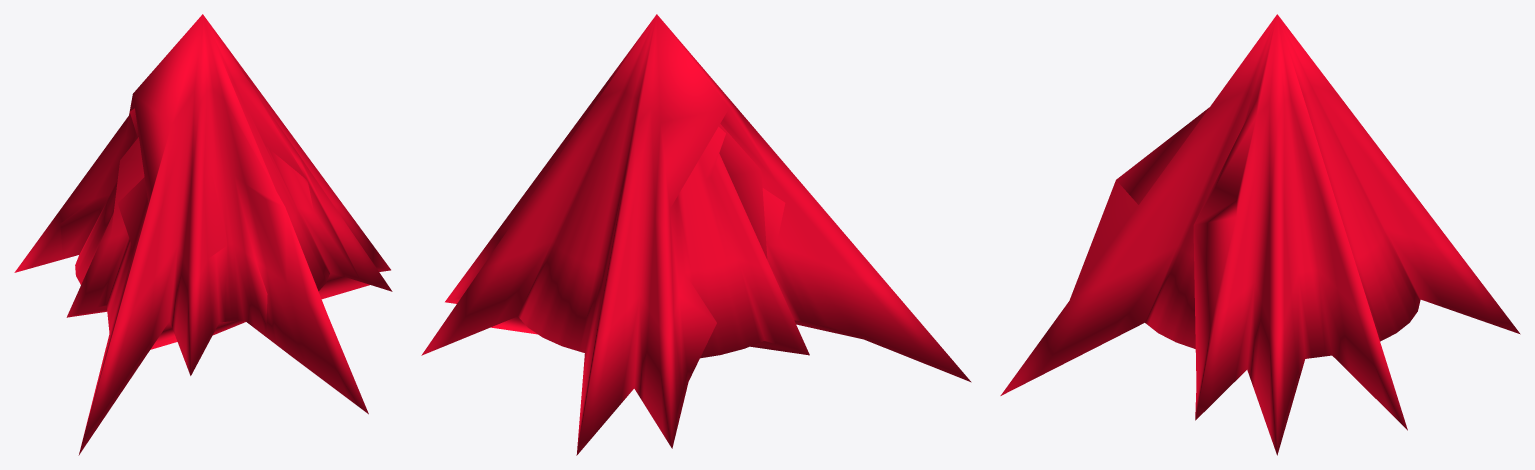
The model's file is AlienShrapnelFire.fbx.
The picture shows the model from 3 angles, left to right: view 1: azimuth 30°, elevation 25°; view 2: azimuth 150°, elevation 25°; view 3: azimuth 270°, elevation 25°; orthographic projection. The views are drawn at different scales.
Visible parts, largest first — view 1: Cone_001; view 2: Cone_001; view 3: Cone_001.
Part boxes in pixels (x1,y1,x2,y2): Cone_001: (14,14,392,455); Cone_001: (421,14,971,455); Cone_001: (1000,14,1520,455).
Bounding box in the file's own units: 2 × 1.64 × 2.06.
